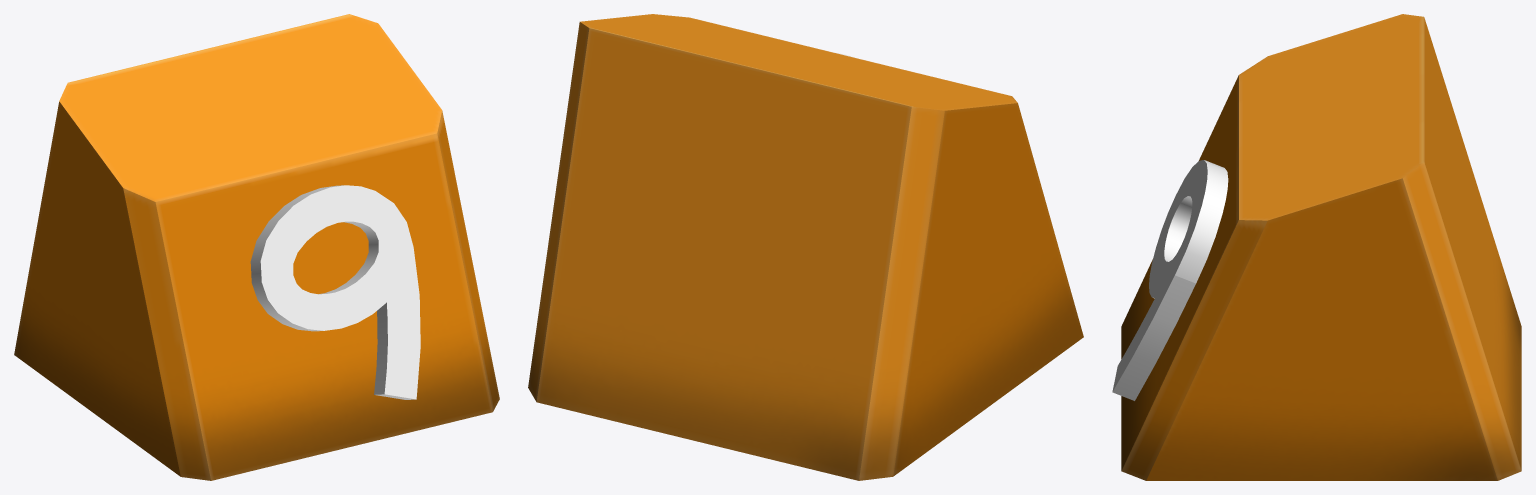
Rendered from hole9Mesh.FBX.
The picture shows the model from 3 angles, left to right: view 1: azimuth 30°, elevation 25°; view 2: azimuth 150°, elevation 25°; view 3: azimuth 270°, elevation 25°; orthographic projection. The views are drawn at different scales.
Visible parts, largest first — view 1: holeNumber9; view 2: holeNumber9; view 3: holeNumber9.
Boxes of the visible parts, <box> form: holeNumber9: <box>14,14,499,480</box>; holeNumber9: <box>528,14,1083,480</box>; holeNumber9: <box>1112,14,1521,480</box>.
Bounding box in the file's own units: 2026 × 1779 × 2132.
